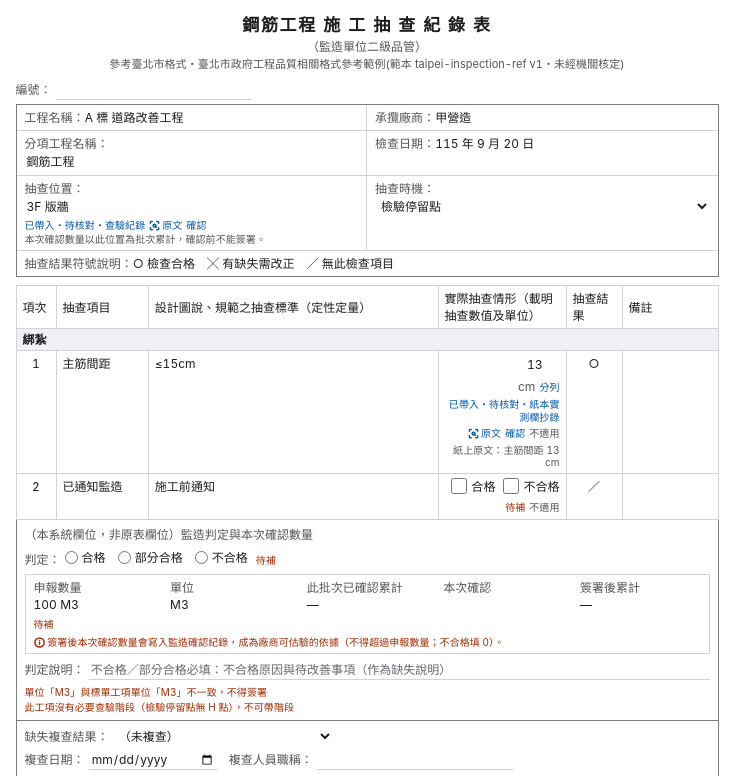
Scenario: 監造查驗紀錄表紙本:監造直接在原表格子裡編輯 › 點「原文」回看紙上原文與原照片(用 B 包已寫進 field_sources 的那一份)
Click the button "原文" below "・紙本實測欄抄錄" at x=485, y=434, box [468,427,501,440]
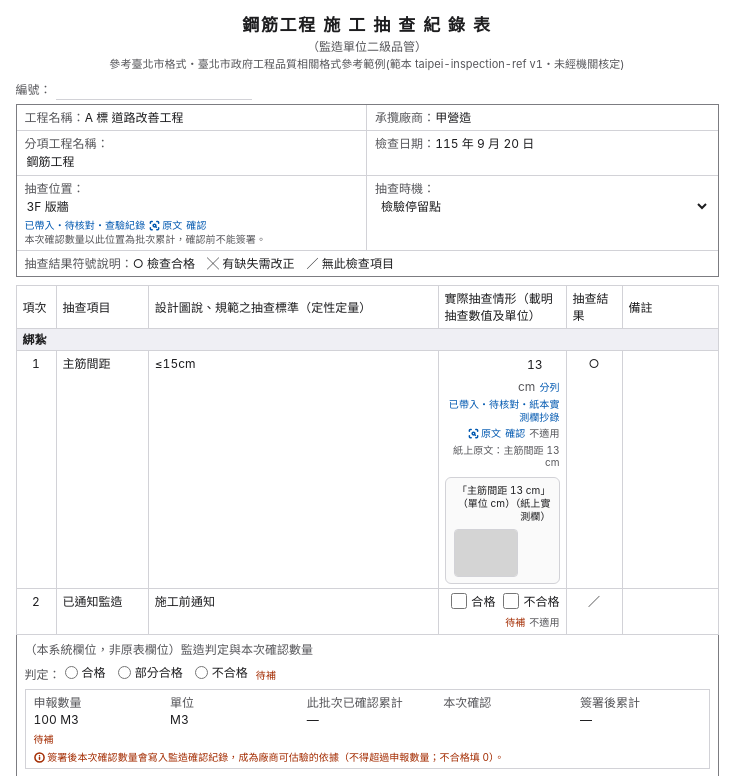
expect the element named "欄位證據" shows "主筋間距 13 cm": met, box [467,484,540,496]
expect the element named "欄位證據" shows "紙上實測欄": met, box [515,497,551,522]
